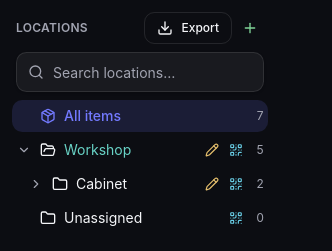
Test: LocationSidebar — name search (issue #129) › restores the tree — and the user’s own expansion — when the search is cleared
The image size is (332, 251).
Type "drawer" into the field labelled "Search locations".
click(140, 72); type("drawer")  # box [16,52,264,92]
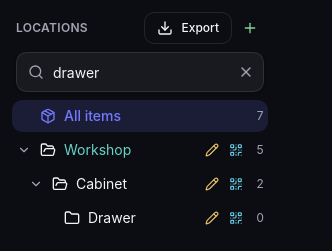
Check: the list item "Drawer" is shown, box [64,206,264,230]
Click the button named "Clear location search".
click(246, 72)  # box [232,58,260,86]
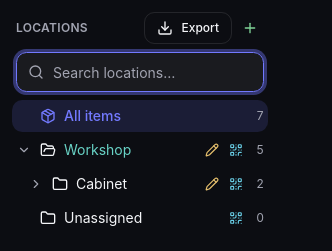
Check: the list item "Unassigned" is shown, box [12,202,268,234]
Check: the text "Drawer" is gone
Check: the list item "Cabinet" is collapsed, box [12,168,268,200]
